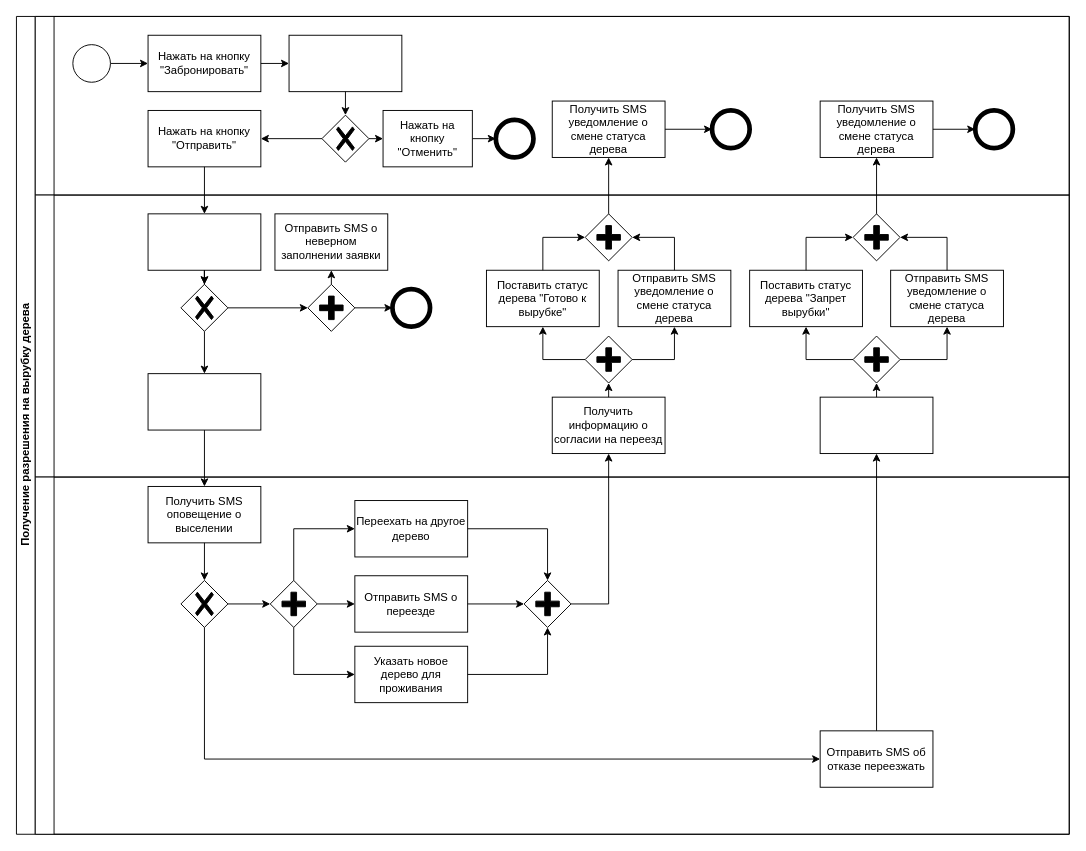
The diagram is 1086 pixels wide and 851 high, and some of its shapes have lost their labels. Here are the shapes that lost their labels. From the top down, the box of each, then its label:
(288, 34, 402, 92): Заполнить форму заявки
(34, 16, 1069, 195): Бобер
(147, 213, 261, 270): Рассмотреть заявку
(34, 194, 1069, 477): Медведь
(147, 373, 261, 430): Отправить SMS оповещение о выселении
(819, 396, 933, 454): Получить информацию об отказе
(34, 476, 1069, 834): Белка
